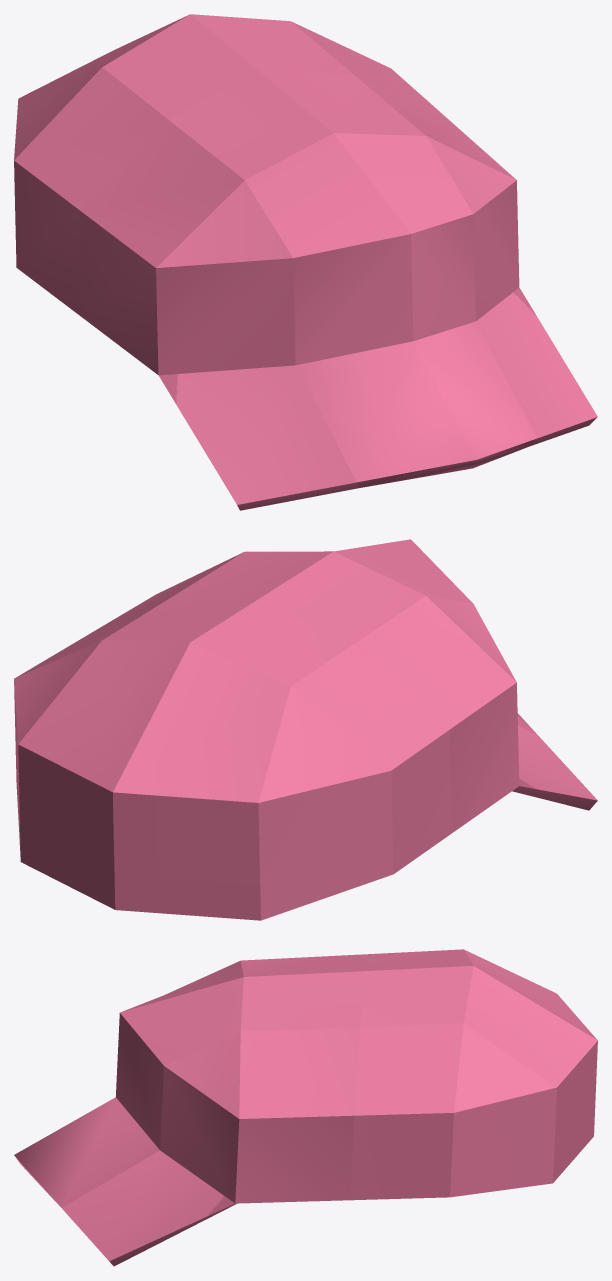
File: hat.fbx
3 views of the same model, one above another, from view 1: azimuth 30°, elevation 25°; view 2: azimuth 150°, elevation 25°; view 3: azimuth 270°, elevation 25° (orthographic). The views are drawn at different scales.
Visible parts, largest first — view 1: hat; view 2: hat; view 3: hat.
Boxes of the visible parts, left/top/right/bottom form: hat: left=14, top=14, right=597, bottom=510; hat: left=14, top=539, right=597, bottom=920; hat: left=14, top=949, right=597, bottom=1266.
Size of the model in its own units: 26.55 by 19.49 by 44.39.
Materials: 1 (1 with a texture image).
